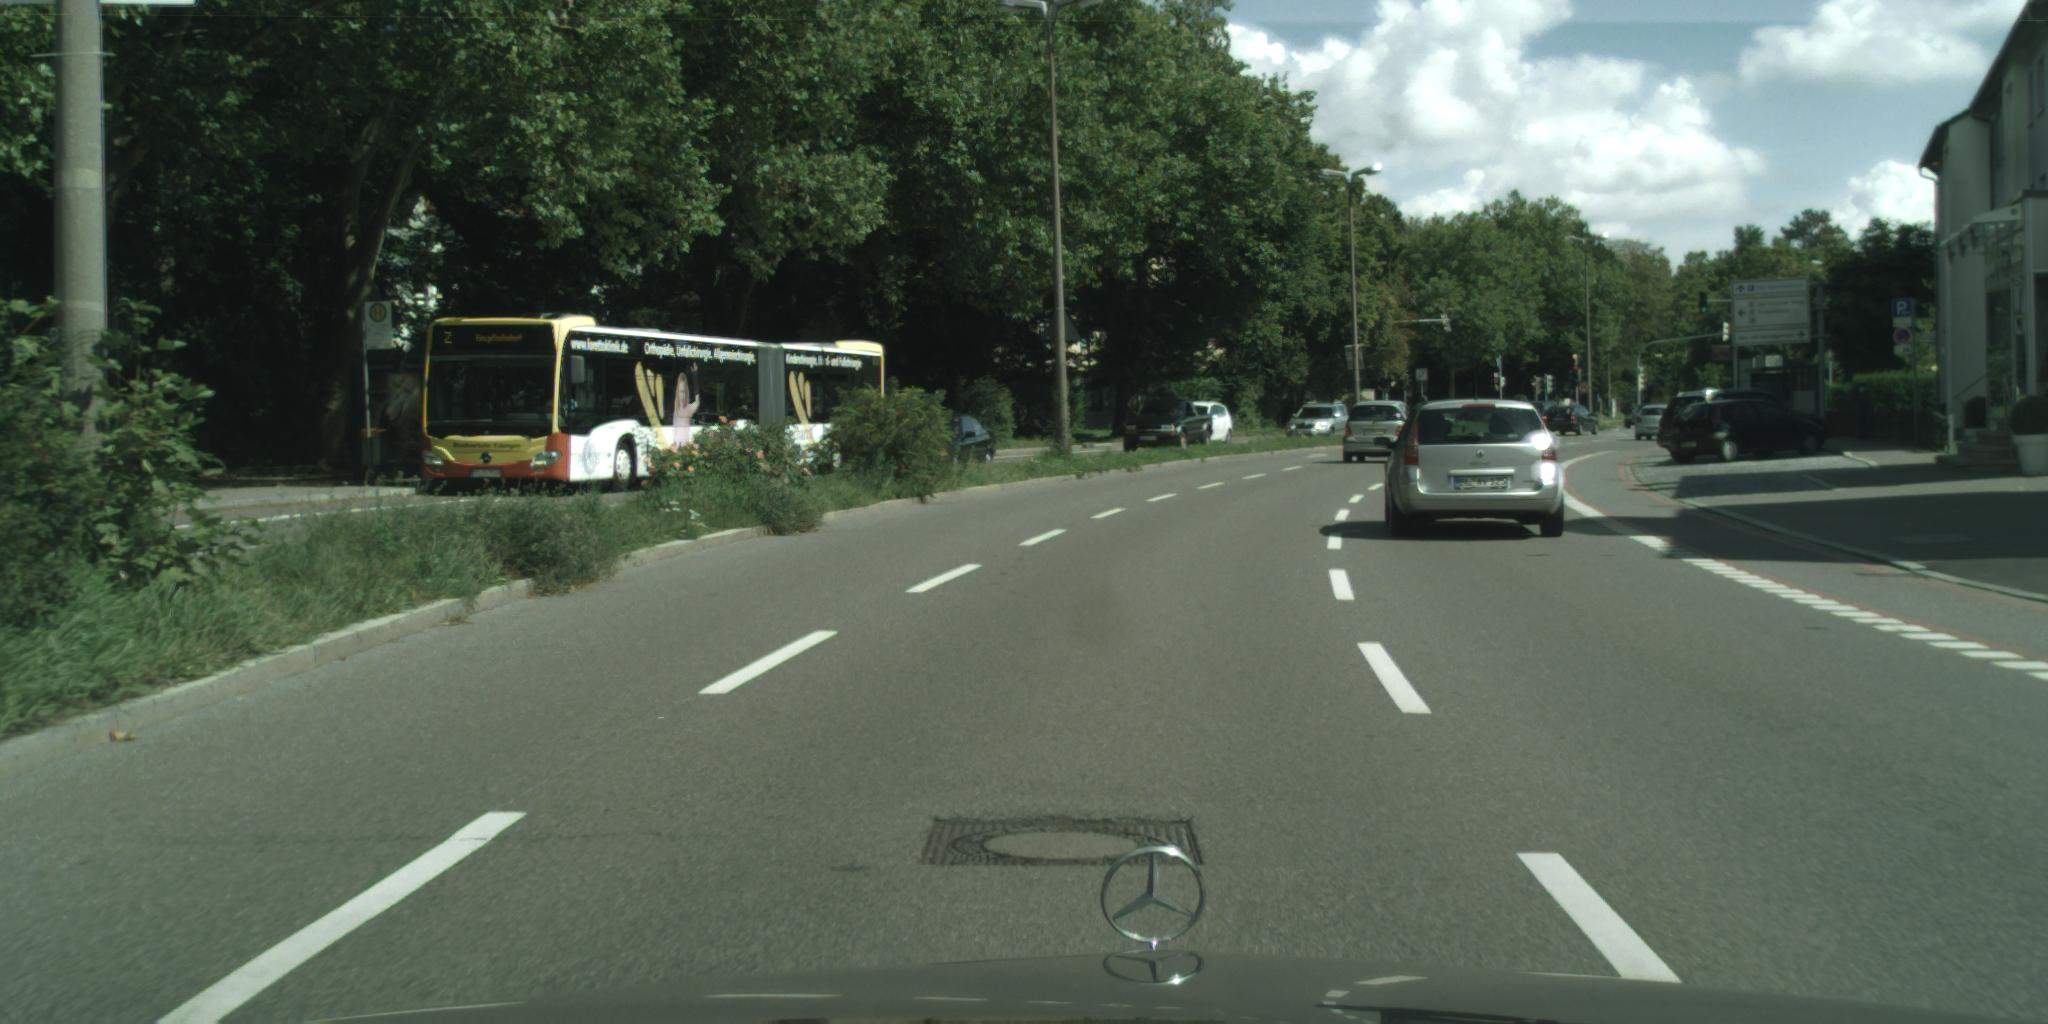bus: (419, 312, 886, 494)
car: (1374, 394, 1566, 539), (1671, 400, 1827, 465), (1657, 387, 1795, 457), (1343, 401, 1413, 465), (1125, 402, 1213, 451), (1285, 400, 1354, 438), (943, 415, 997, 462), (1189, 400, 1234, 448), (1541, 405, 1603, 438), (1637, 404, 1674, 441), (1522, 401, 1569, 431), (1625, 405, 1650, 428)
